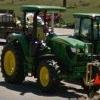Tractor: (12, 6, 99, 97)
